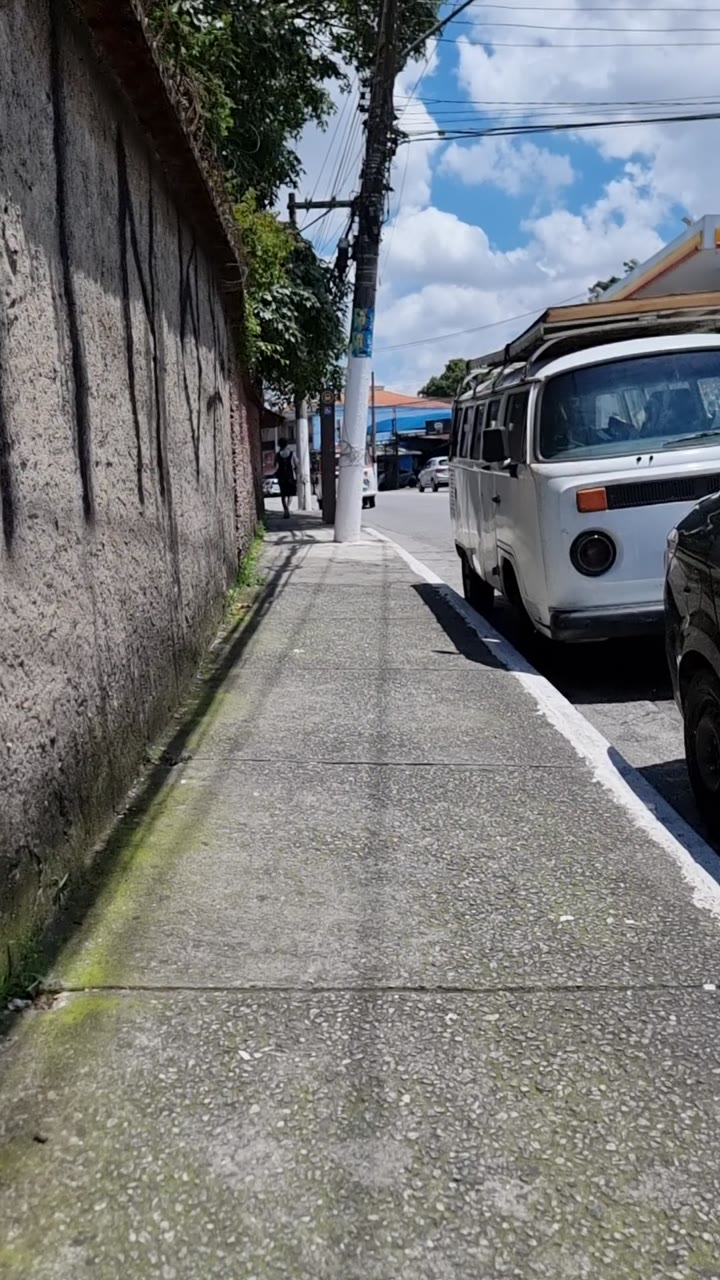obstaculo: (317, 384, 360, 627)
